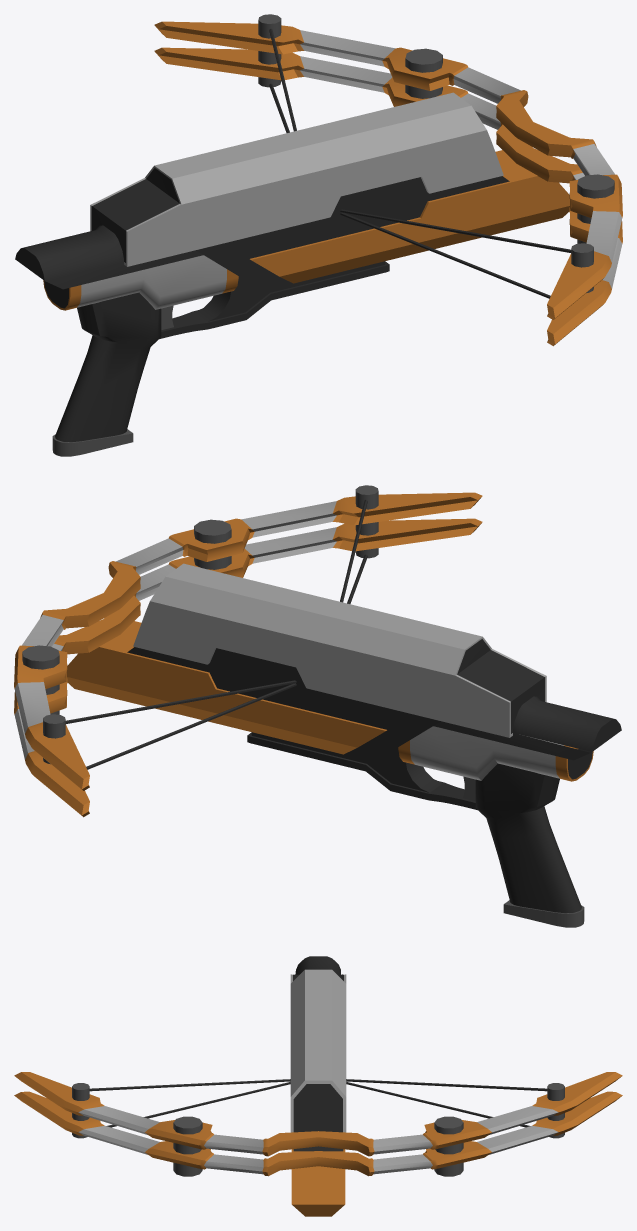
File: quaternius-modular-sci-fi-guns-crossbow-2.glb
The picture shows the model from 3 angles, top to bottom: view 1: azimuth 30°, elevation 25°; view 2: azimuth 150°, elevation 25°; view 3: azimuth 270°, elevation 25°; orthographic projection. The views are drawn at different scales.
Parts seen in each view (by area): view 1: Crossbow_2; view 2: Crossbow_2; view 3: Crossbow_2.
Part boxes in pixels (x1,y1,x2,y2): Crossbow_2: (15,14,622,456); Crossbow_2: (14,485,621,927); Crossbow_2: (14,956,622,1216).
Size of the model in its own units: 1.47 by 0.675 by 1.92.
